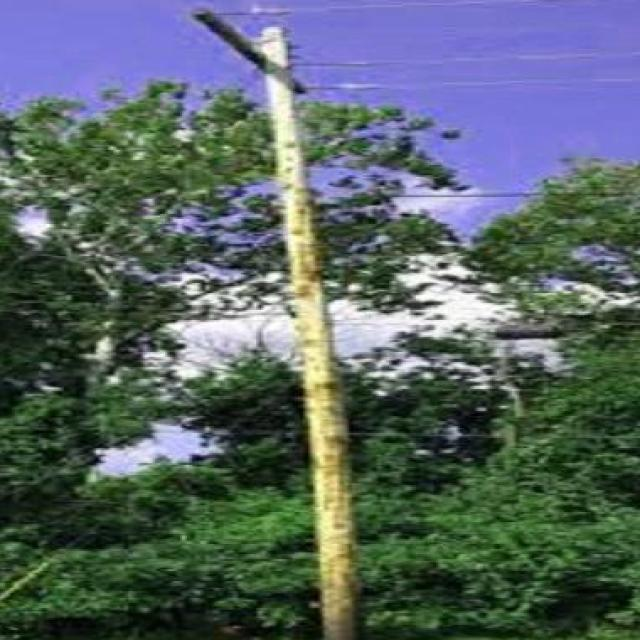non-critical vegetation: (200, 13, 379, 640)
